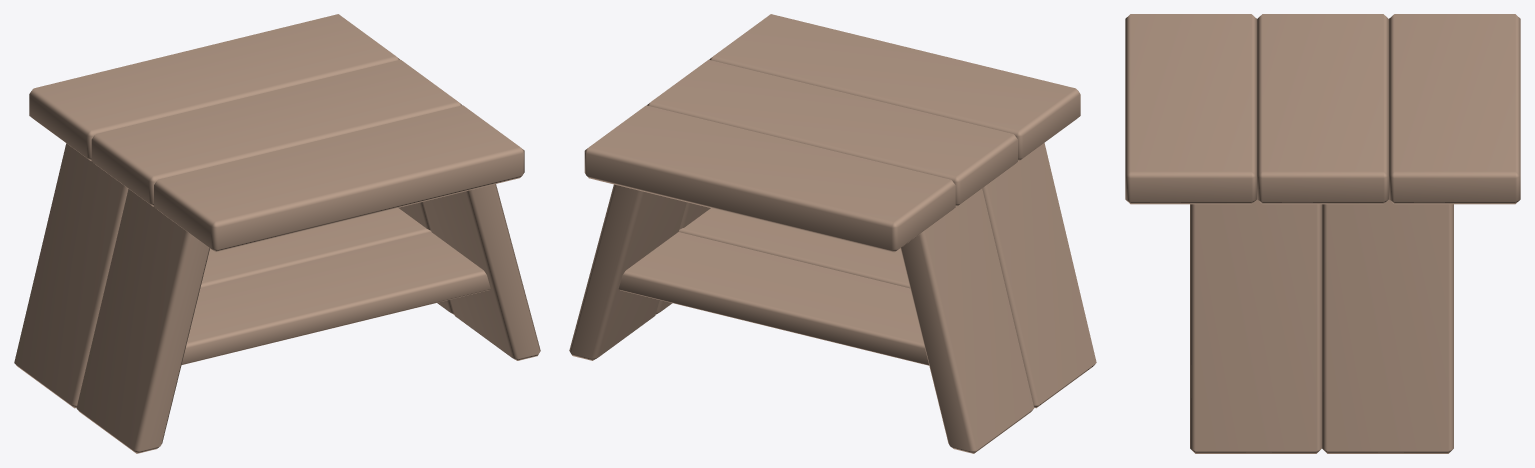
File: Chair_10.glb
The picture shows the model from 3 angles, left to right: view 1: azimuth 30°, elevation 25°; view 2: azimuth 150°, elevation 25°; view 3: azimuth 270°, elevation 25°; orthographic projection. The views are drawn at different scales.
Parts seen in each view (by area): view 1: Chair_10; view 2: Chair_10; view 3: Chair_10.
Boxes of the visible parts, x1,y1,x2,y2 form: Chair_10: (14, 14, 540, 453); Chair_10: (569, 14, 1096, 453); Chair_10: (1125, 14, 1520, 453).
Bounding box in the file's own units: 0.9488 × 0.542 × 0.754.
1 material, 1 textured.
